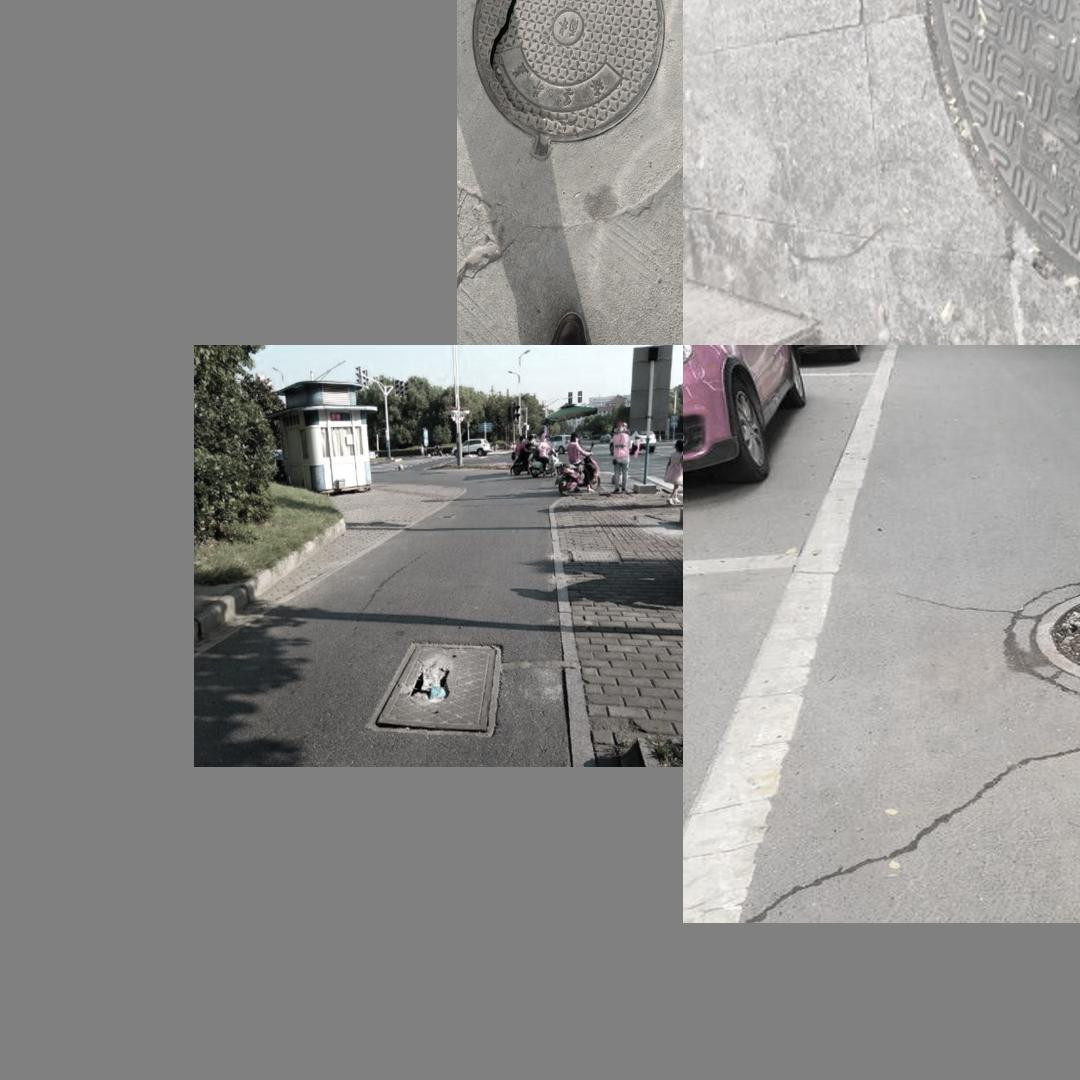broke: (919, 0, 1080, 327), (463, 0, 680, 200), (997, 554, 1080, 719), (366, 641, 501, 737)
